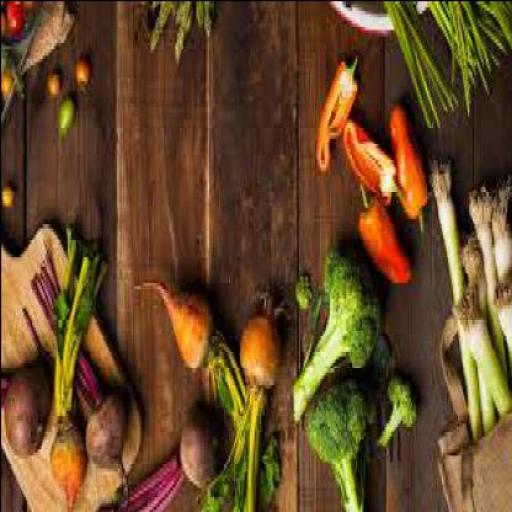biodegradable: (288, 246, 382, 426), (429, 163, 478, 441), (202, 339, 278, 505), (29, 250, 104, 410), (50, 230, 104, 432), (194, 386, 274, 511), (302, 378, 374, 511), (382, 3, 456, 131), (426, 3, 490, 121), (130, 282, 208, 378), (449, 304, 510, 420), (459, 240, 494, 432), (78, 394, 129, 511), (386, 102, 426, 240), (466, 195, 494, 387), (356, 192, 410, 288), (340, 124, 401, 208), (236, 288, 282, 394), (312, 57, 354, 173), (97, 458, 185, 511), (2, 362, 47, 460), (145, 4, 211, 70), (177, 410, 218, 496), (47, 426, 86, 511), (373, 377, 413, 451), (496, 182, 510, 378), (475, 3, 510, 65), (21, 311, 52, 371), (493, 285, 510, 375), (2, 58, 23, 106), (52, 103, 74, 147), (366, 339, 386, 381), (3, 4, 22, 38), (309, 295, 324, 333), (44, 70, 62, 100), (72, 58, 86, 96), (294, 278, 309, 308), (0, 371, 9, 409), (1, 184, 11, 212), (0, 73, 9, 103), (22, 3, 32, 23), (1, 8, 5, 40)
